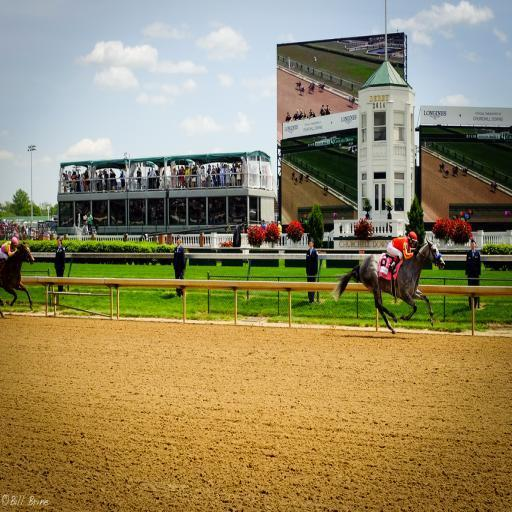horse: (331, 235, 446, 333), (0, 239, 36, 313)
